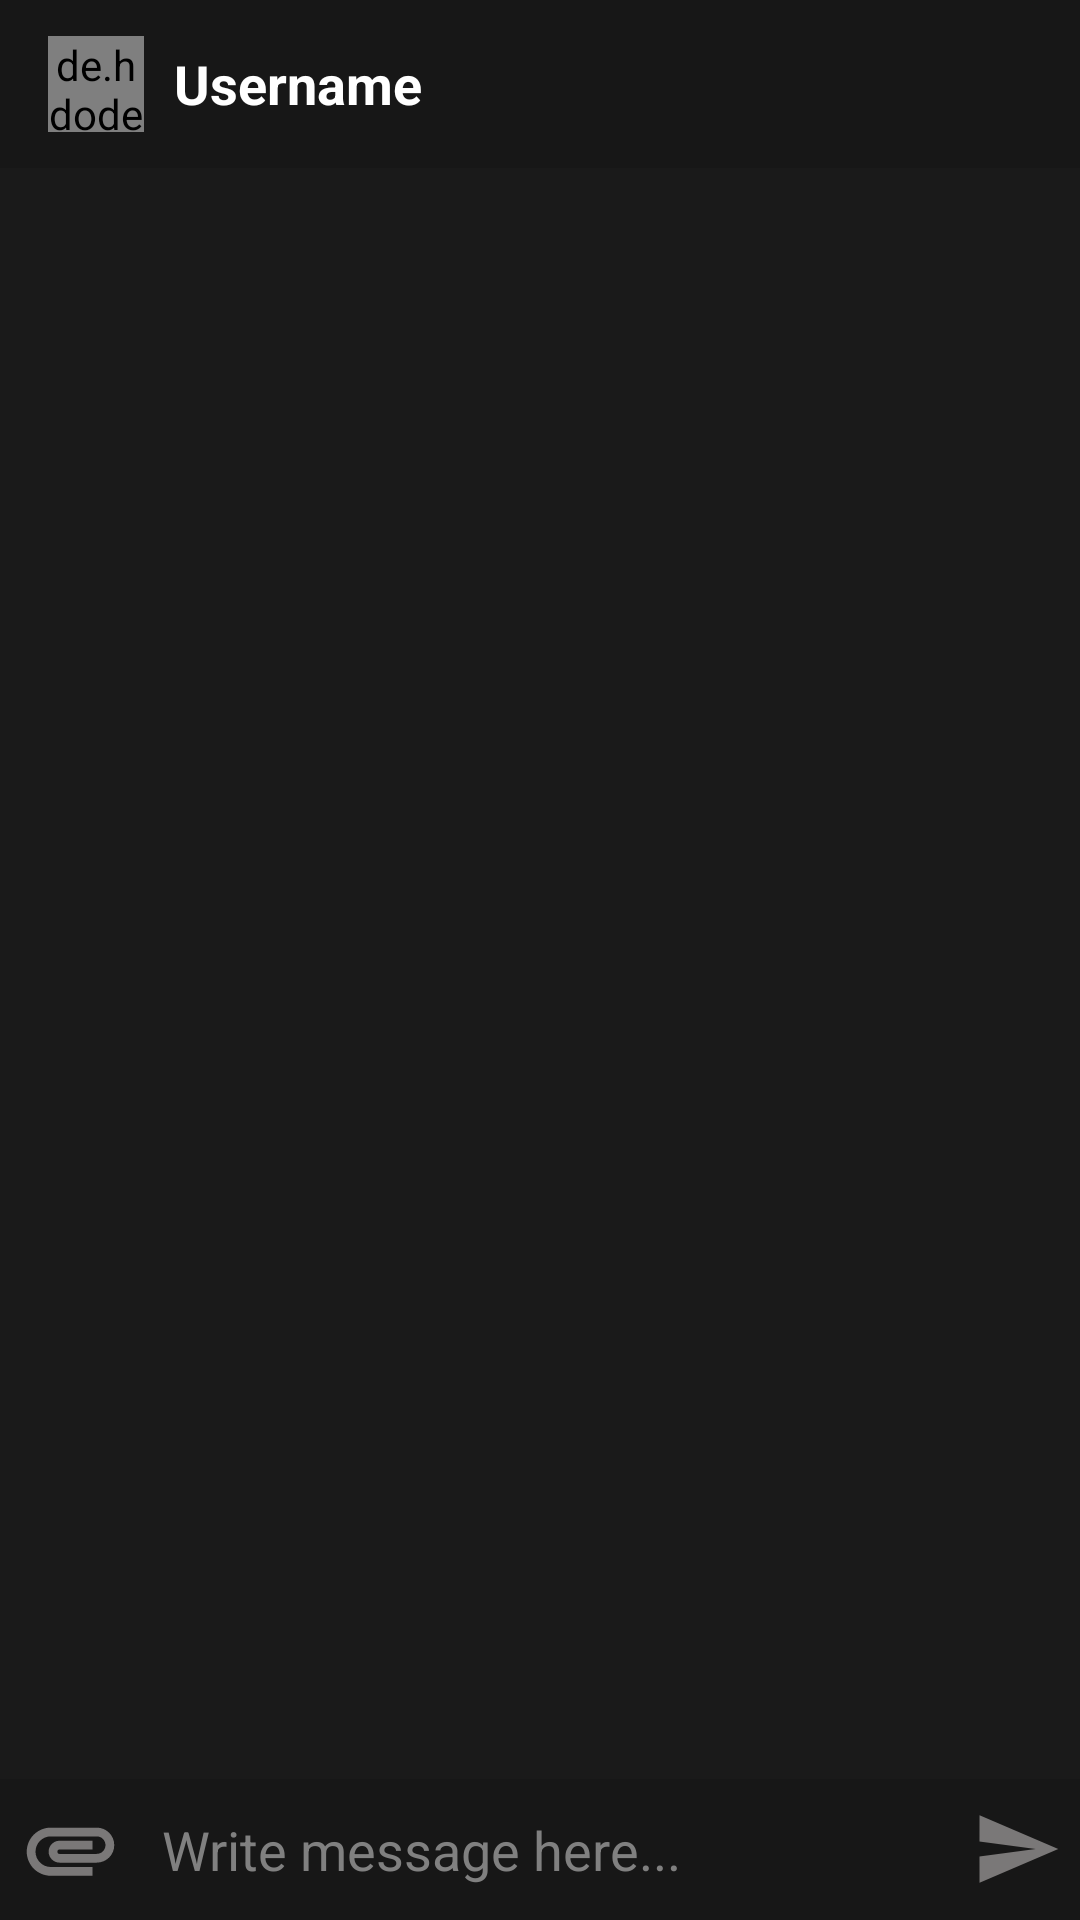

Where icons sit on this 1080 × 1920 app screen, as Rect(x1, y1, x2, y2):
attach: Rect(26, 1827, 115, 1876)
send: Rect(979, 1815, 1058, 1883)
